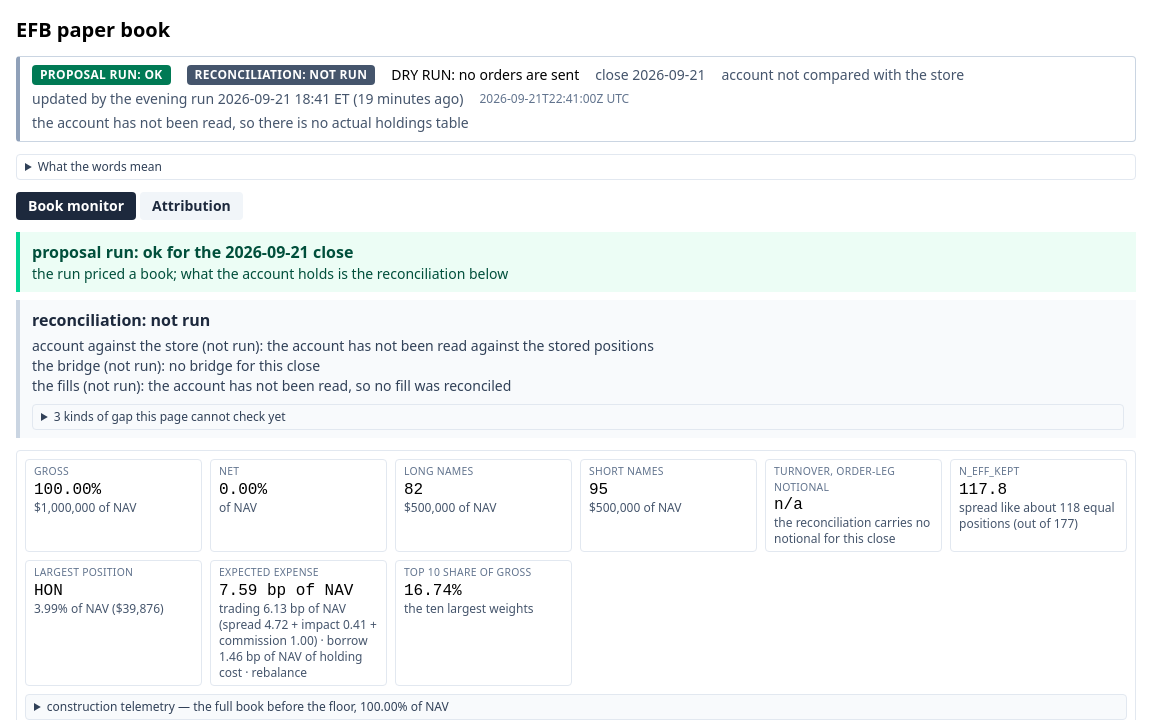
Test case: the page › shows the attribution: the live period, its four terms and the total
The image size is (1152, 720).
Click the tab "Attribution" at (191, 206), box [140,192,243,220]
(page scrolled)
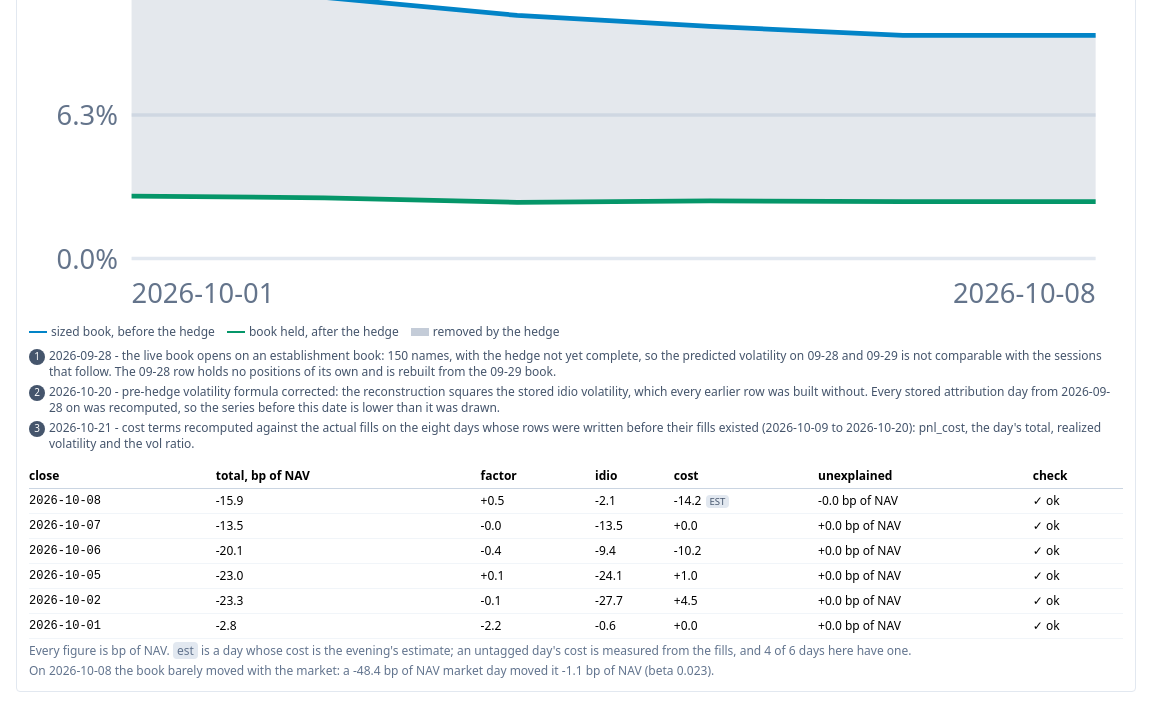
Now the cell "2026-10-08" is shown, box [29,488,216,514]
